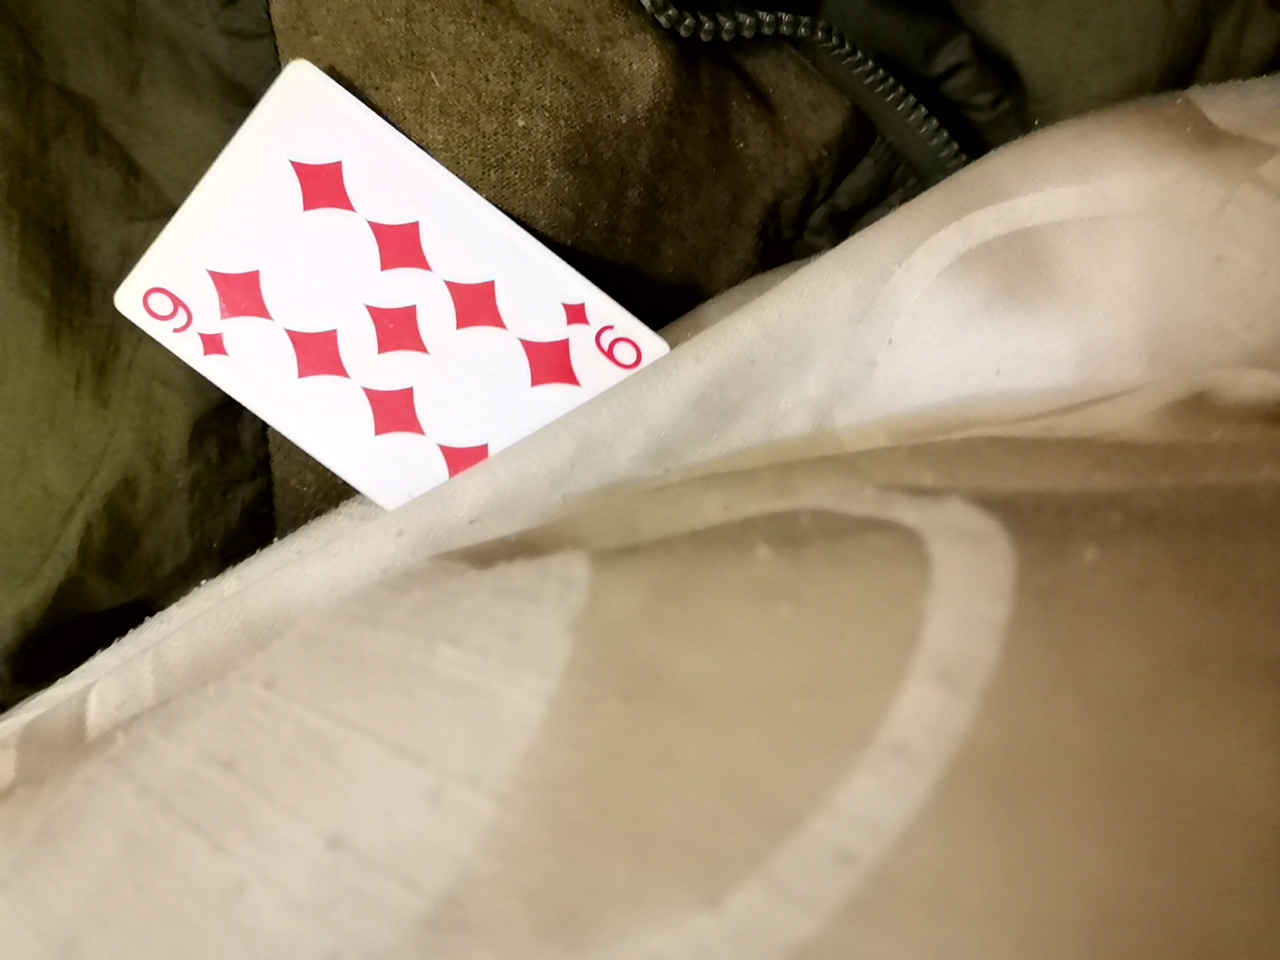fk 9: (103, 63, 651, 531)
